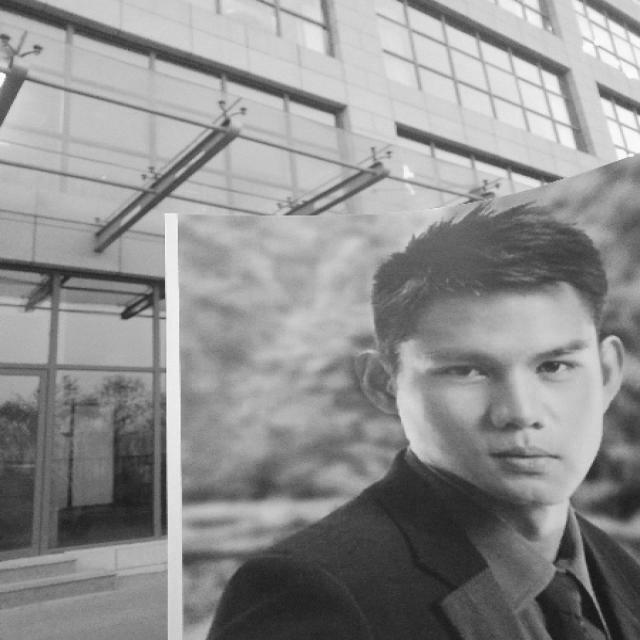fake: (160, 154, 640, 640)
